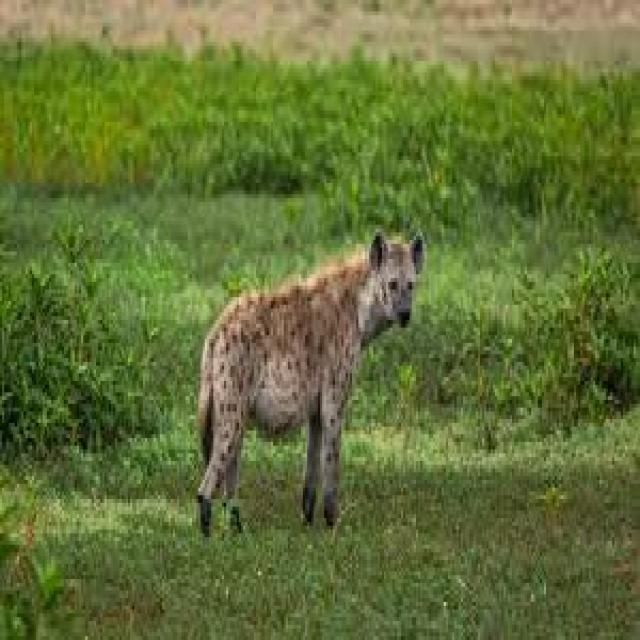Hyena: (194, 228, 428, 532)
